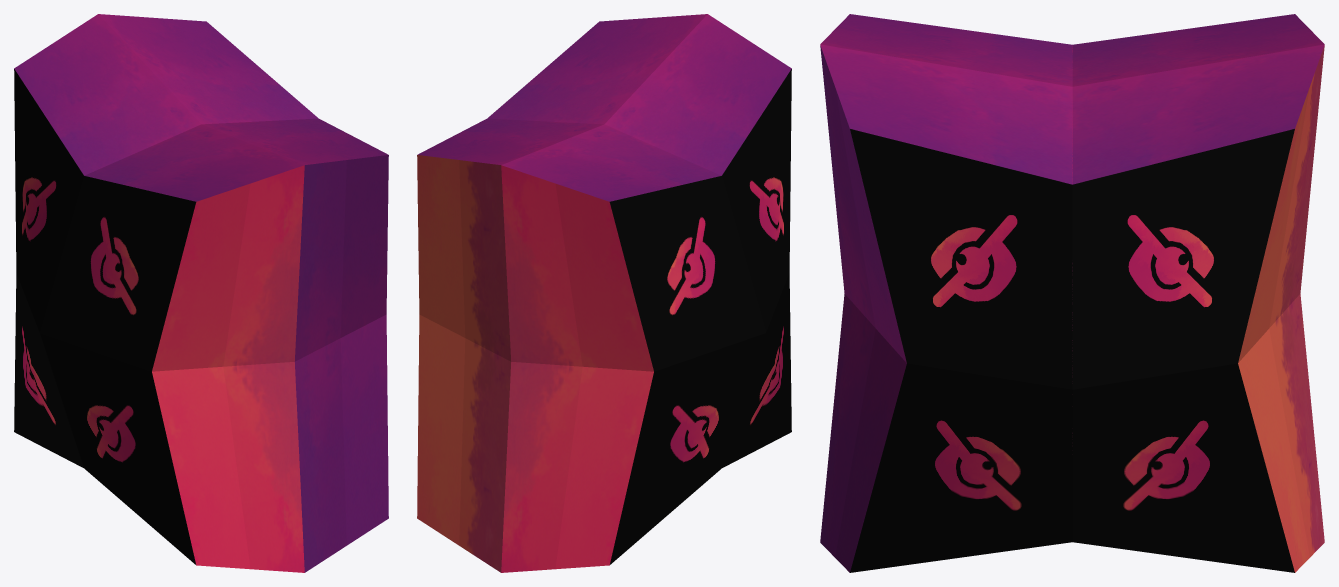
File: bonusStels.fbx
3 views of the same model, side by side, from view 1: azimuth 30°, elevation 25°; view 2: azimuth 150°, elevation 25°; view 3: azimuth 270°, elevation 25° (orthographic). The views are drawn at different scales.
Parts seen in each view (by area): view 1: Куб; view 2: Куб; view 3: Куб.
Part boxes in pixels (x1,y1,x2,y2): Куб: [14, 14, 388, 572]; Куб: [417, 14, 791, 572]; Куб: [820, 14, 1324, 572].
Size of the model in its own units: 1175 by 1417 by 1301.
